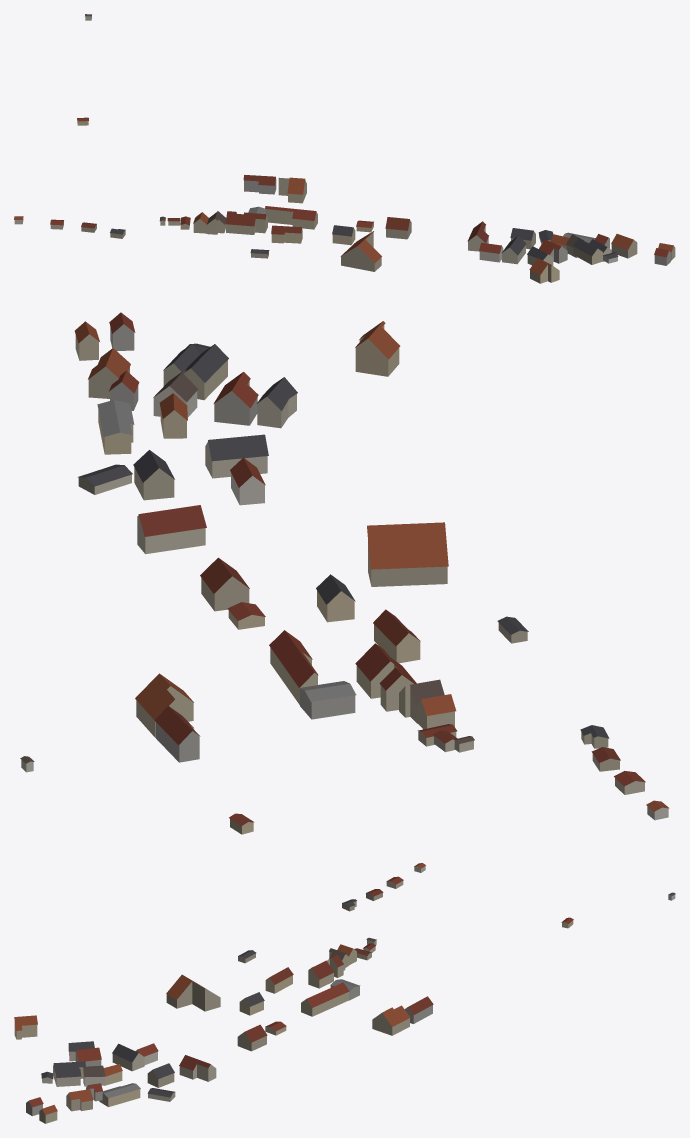
3 views of the same model, one above another, from view 1: azimuth 30°, elevation 25°; view 2: azimuth 150°, elevation 25°; view 3: azimuth 270°, elevation 25° (orthographic). The views are drawn at different scales.
Parts seen in each view (by area): view 1: buildings; view 2: buildings; view 3: buildings.
Boxes of the visible parts, bbox=[...] form: buildings: bbox=[14, 14, 675, 283]; buildings: bbox=[20, 312, 669, 834]; buildings: bbox=[14, 863, 675, 1123].
Size of the model in its own units: 330 by 65.81 by 385.
